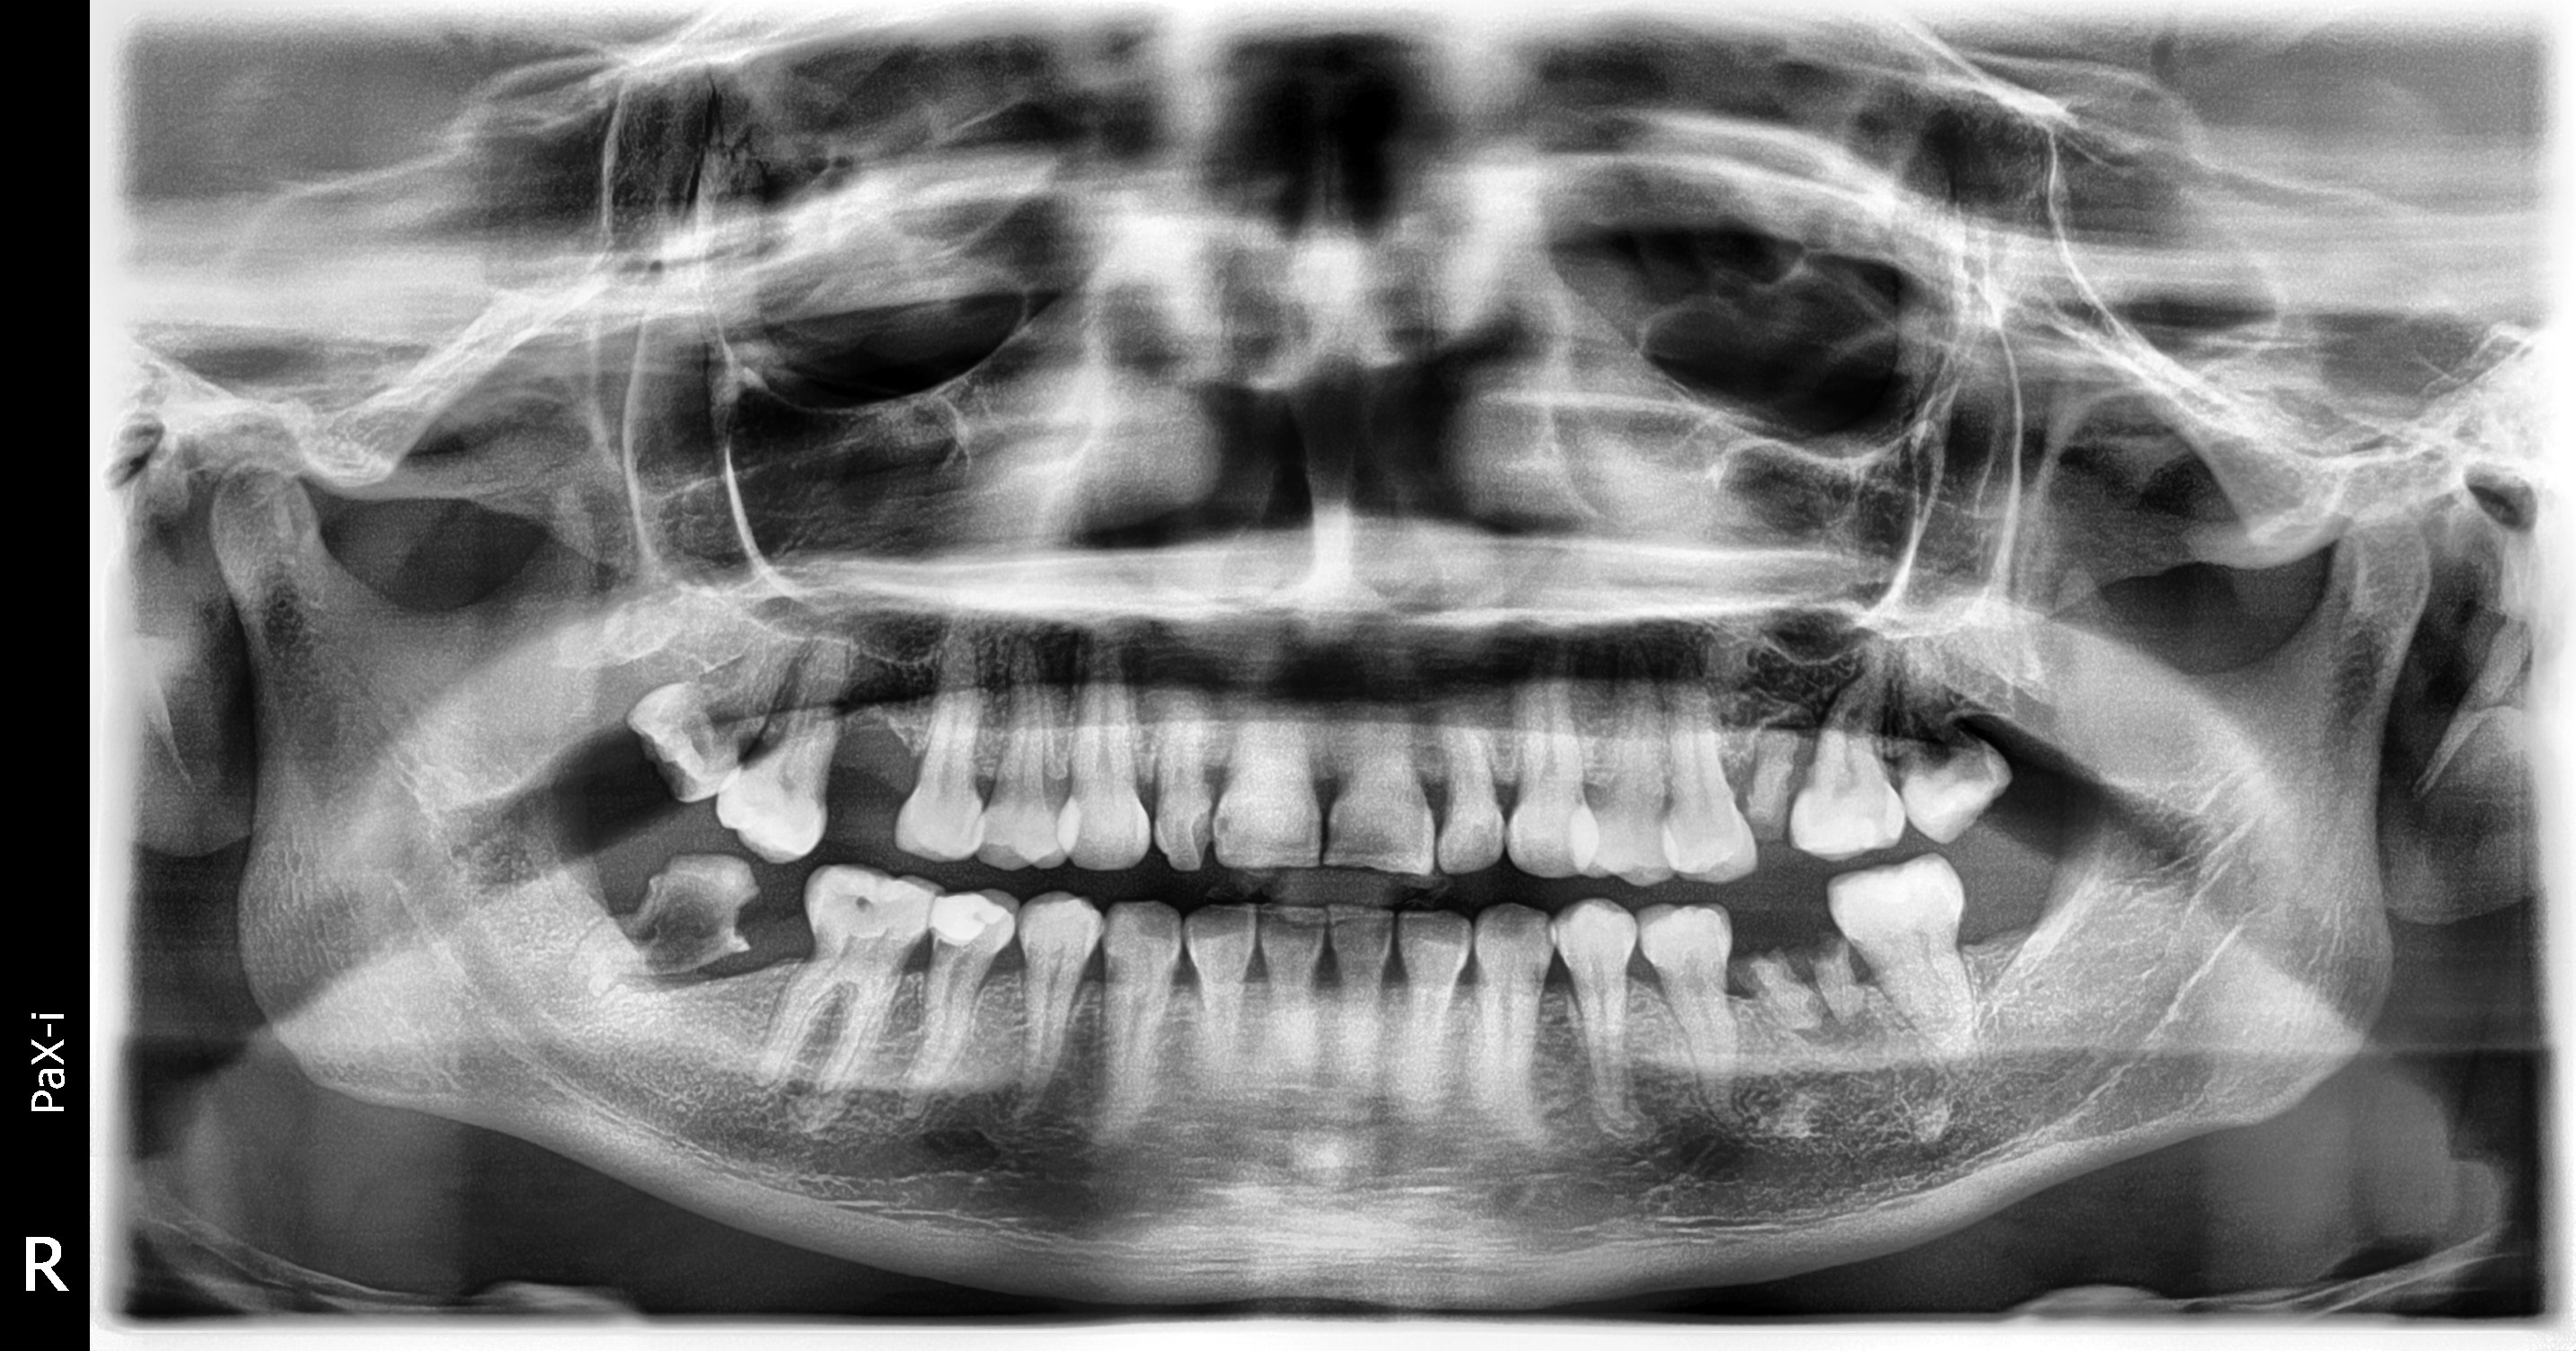API: (1775, 981, 1896, 1082)
BON: (588, 942, 762, 1020)
CAR: (596, 865, 762, 969), (704, 690, 782, 784), (1927, 734, 2012, 797), (1308, 794, 1368, 865), (911, 913, 971, 980), (1205, 797, 1254, 847), (1184, 792, 1220, 860)
OBT: (789, 860, 934, 959), (918, 882, 1038, 959)
ROT: (1733, 698, 1821, 855), (1719, 934, 1835, 1051), (1808, 913, 1898, 1031)
